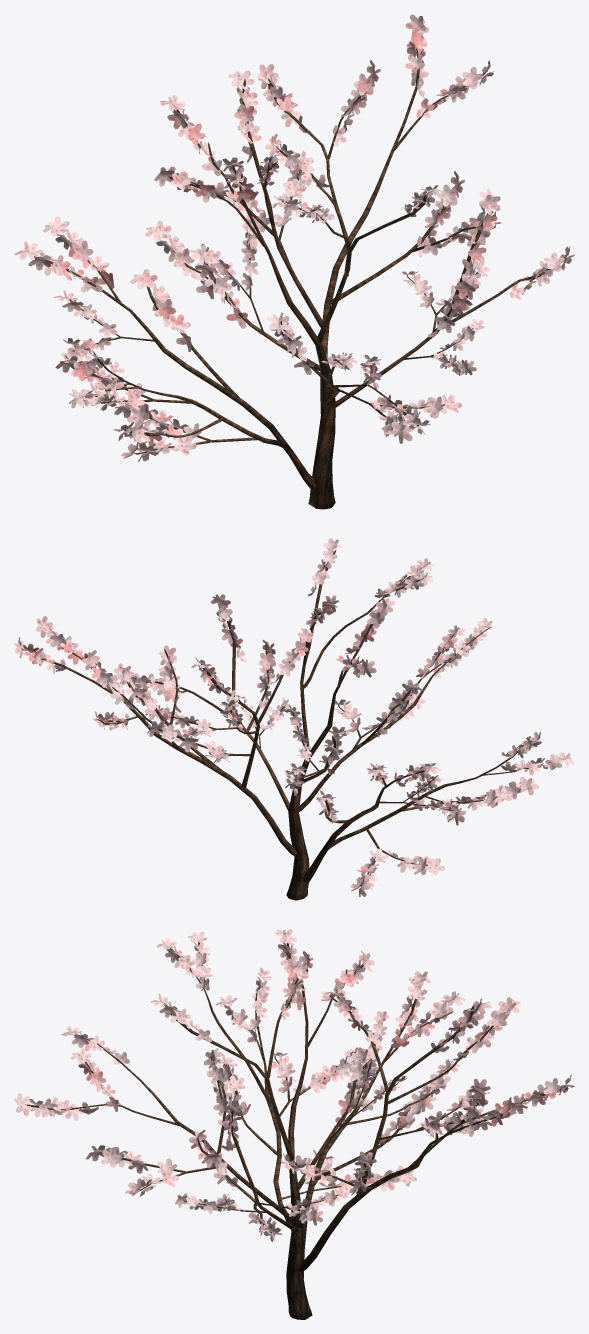
Rendered from sakura.gltf.
3 views of the same model, one above another, from view 1: azimuth 30°, elevation 25°; view 2: azimuth 150°, elevation 25°; view 3: azimuth 270°, elevation 25° (orthographic). The views are drawn at different scales.
Visible parts, largest first — view 1: Circle.355; view 2: Circle.355; view 3: Circle.355.
Part boxes in pixels (bbox=[...]): Circle.355: bbox=[14, 14, 574, 509]; Circle.355: bbox=[14, 538, 574, 900]; Circle.355: bbox=[14, 929, 574, 1319].
Bounding box in the file's own units: 0.2842 × 0.1918 × 0.2831.
1 material, 1 textured.
